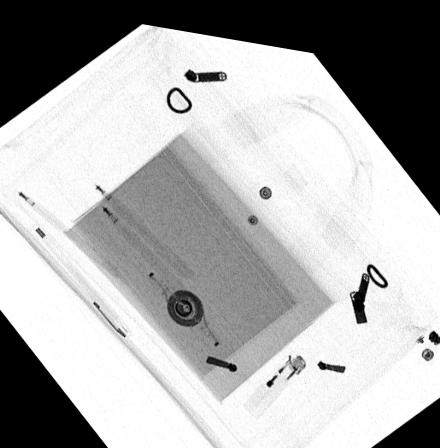Lighter: (243, 341, 307, 410)
